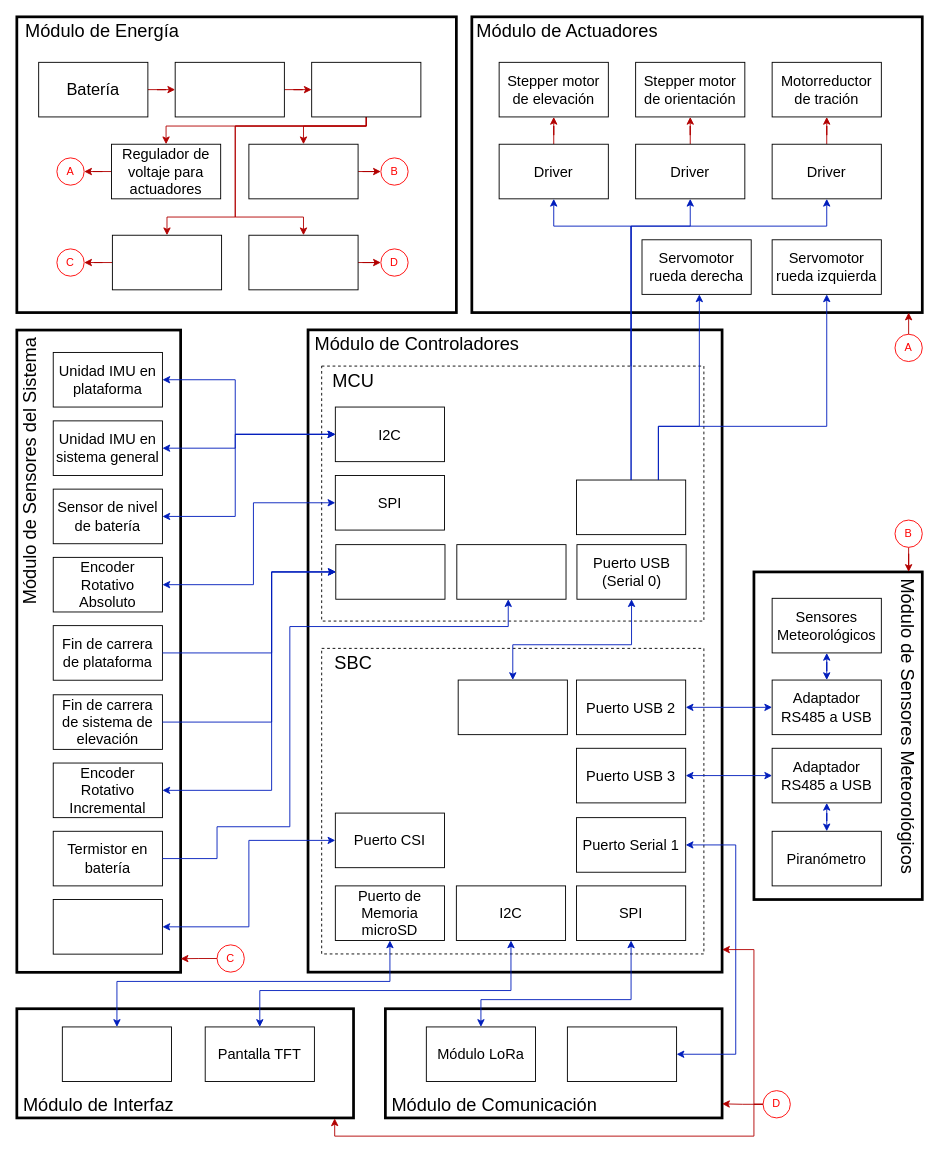
Some shapes in this 939 by 1159 pixel diagram are drawn without their labels. Each missing label, with the box of its shape:
ADC: (456, 544, 566, 599)
Battery Management System: (174, 61, 284, 117)
GPIOs Digital (Entradas): (335, 544, 445, 599)
GPIOs Digital (Salidas): (576, 479, 686, 535)
Memoria microSD: (61, 1026, 172, 1082)
Módulo CMOS: (52, 899, 162, 954)
Módulo GPS: (566, 1026, 677, 1082)
Puerto USB 1 (Serial 0): (457, 679, 567, 735)
Reg. de voltaje para controladores interfaz y comm.: (248, 234, 358, 290)
Reg. de voltaje para sensores del sistema: (111, 234, 222, 290)
Reg. de voltaje para sensores meteorológicos: (248, 143, 358, 199)
Switch On-Off: (311, 61, 421, 117)
